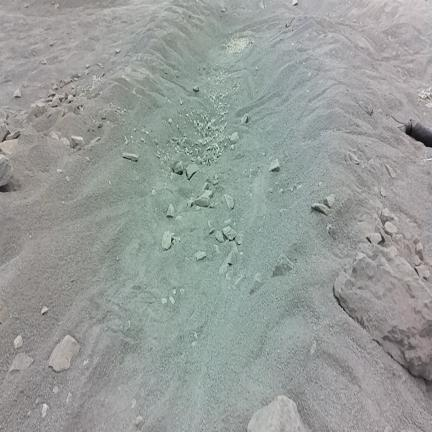Rock: (334, 244, 431, 379), (247, 396, 306, 431), (49, 335, 80, 372), (273, 254, 293, 276), (0, 154, 13, 186), (9, 354, 33, 371), (27, 102, 47, 121), (0, 137, 18, 156), (220, 251, 236, 272), (195, 190, 212, 207), (380, 208, 395, 225), (250, 273, 262, 293), (415, 264, 429, 280), (312, 203, 330, 215), (366, 233, 384, 244), (170, 161, 184, 175), (162, 231, 172, 250), (0, 123, 10, 142), (223, 226, 236, 240), (384, 222, 397, 236), (186, 164, 198, 179), (222, 194, 233, 210), (50, 94, 62, 108), (71, 136, 84, 148), (345, 153, 359, 164), (416, 242, 424, 261), (324, 194, 335, 207), (135, 416, 145, 430), (13, 335, 23, 349), (385, 164, 395, 178), (0, 307, 8, 324), (269, 159, 280, 171), (229, 241, 238, 255), (219, 263, 230, 274), (41, 403, 49, 418), (230, 132, 240, 144), (194, 251, 206, 261), (235, 275, 245, 287), (123, 153, 138, 161), (89, 137, 101, 146), (202, 179, 211, 191), (215, 231, 224, 242), (327, 225, 336, 236), (167, 204, 174, 217), (50, 131, 59, 140), (413, 255, 421, 265), (403, 230, 411, 240), (60, 138, 70, 146), (241, 114, 249, 123), (236, 235, 243, 245), (41, 306, 48, 316), (60, 79, 68, 87), (14, 89, 21, 98), (380, 187, 386, 197), (413, 235, 419, 245), (187, 199, 194, 207), (220, 4, 226, 12), (56, 168, 63, 174), (209, 227, 215, 234), (384, 426, 392, 431), (67, 393, 71, 403), (41, 58, 47, 64), (193, 86, 199, 92), (152, 139, 158, 145), (65, 176, 70, 182), (98, 63, 104, 68), (68, 95, 74, 100), (24, 3, 29, 8), (162, 298, 167, 303), (168, 118, 172, 124), (170, 297, 174, 303), (293, 0, 297, 5), (55, 4, 59, 9), (116, 49, 120, 53), (86, 64, 89, 68)
